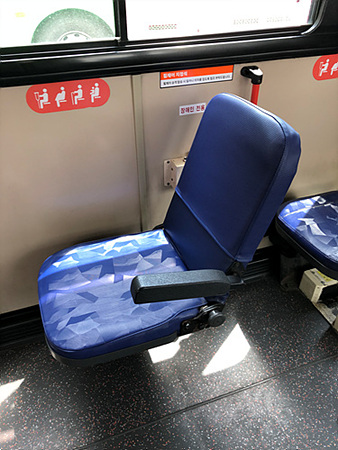seat: (36, 89, 306, 362)
